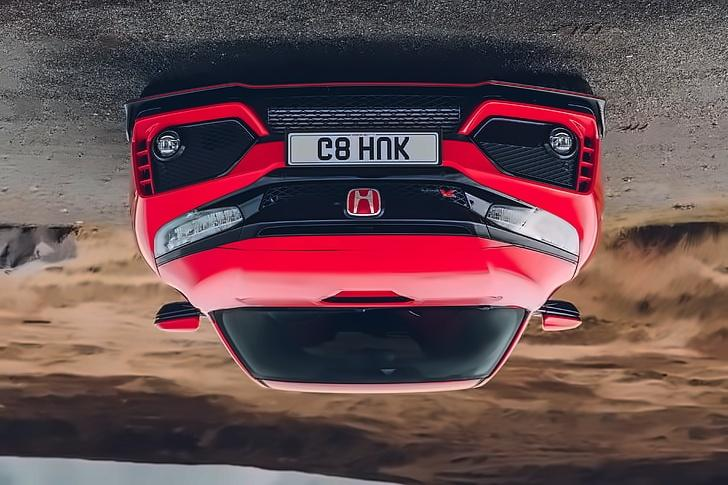Car hood: (155, 234, 577, 313)
Front bumper: (122, 82, 607, 219)
Headlight - -L-: (152, 201, 245, 265)
Headlight - -R-: (465, 189, 581, 265)
Side mirror - -L-: (155, 300, 209, 333)
Side mirror - -R-: (530, 295, 581, 333)
